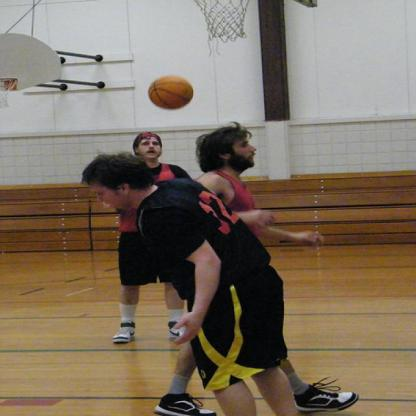basketball: (146, 75, 194, 110)
rim: (0, 76, 19, 85)
